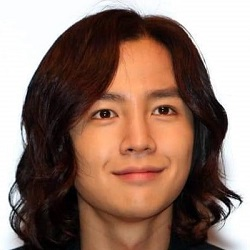unmask: (67, 74, 198, 219)
